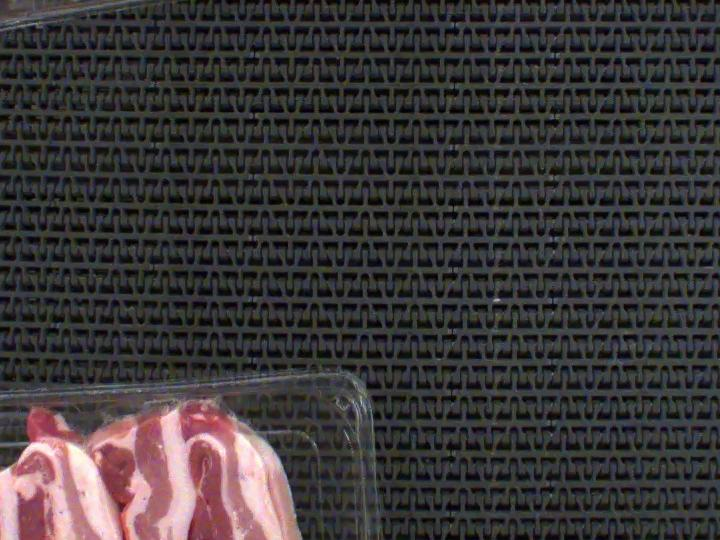packaging-error: (67, 384, 257, 419)
